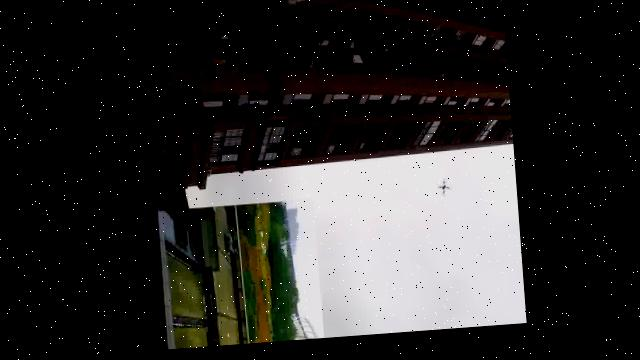drone: (433, 184, 448, 204)
